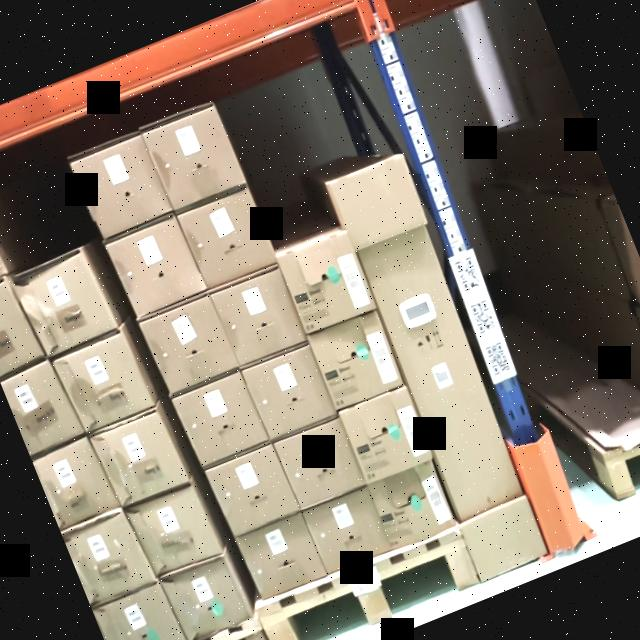box: (329, 156, 547, 578), (15, 252, 118, 354), (72, 137, 172, 241), (138, 294, 239, 396), (178, 188, 278, 290), (144, 107, 242, 210), (107, 215, 205, 315), (309, 312, 406, 413), (279, 235, 376, 335), (55, 335, 150, 432), (92, 413, 189, 508), (211, 270, 305, 366), (208, 442, 301, 537), (243, 347, 336, 441), (129, 485, 223, 578), (173, 374, 268, 465), (275, 418, 366, 510), (341, 388, 432, 479), (238, 513, 325, 598), (301, 487, 388, 570), (163, 558, 251, 640), (372, 466, 453, 544)
